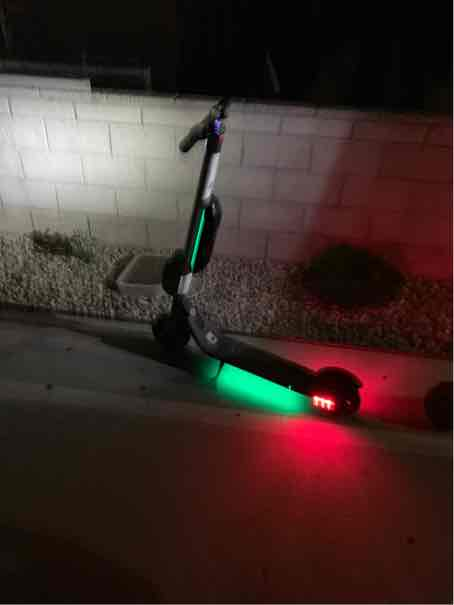scooter: (149, 88, 374, 417)
